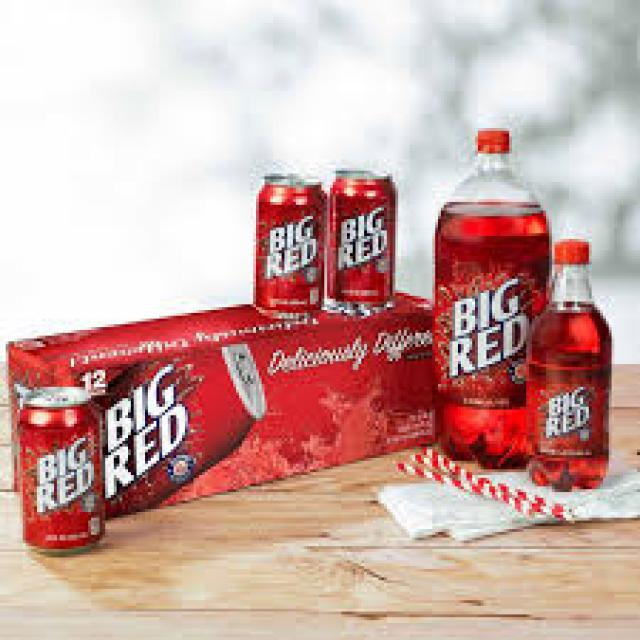Cans: (11, 384, 114, 560), (250, 171, 330, 324), (324, 165, 401, 310)
